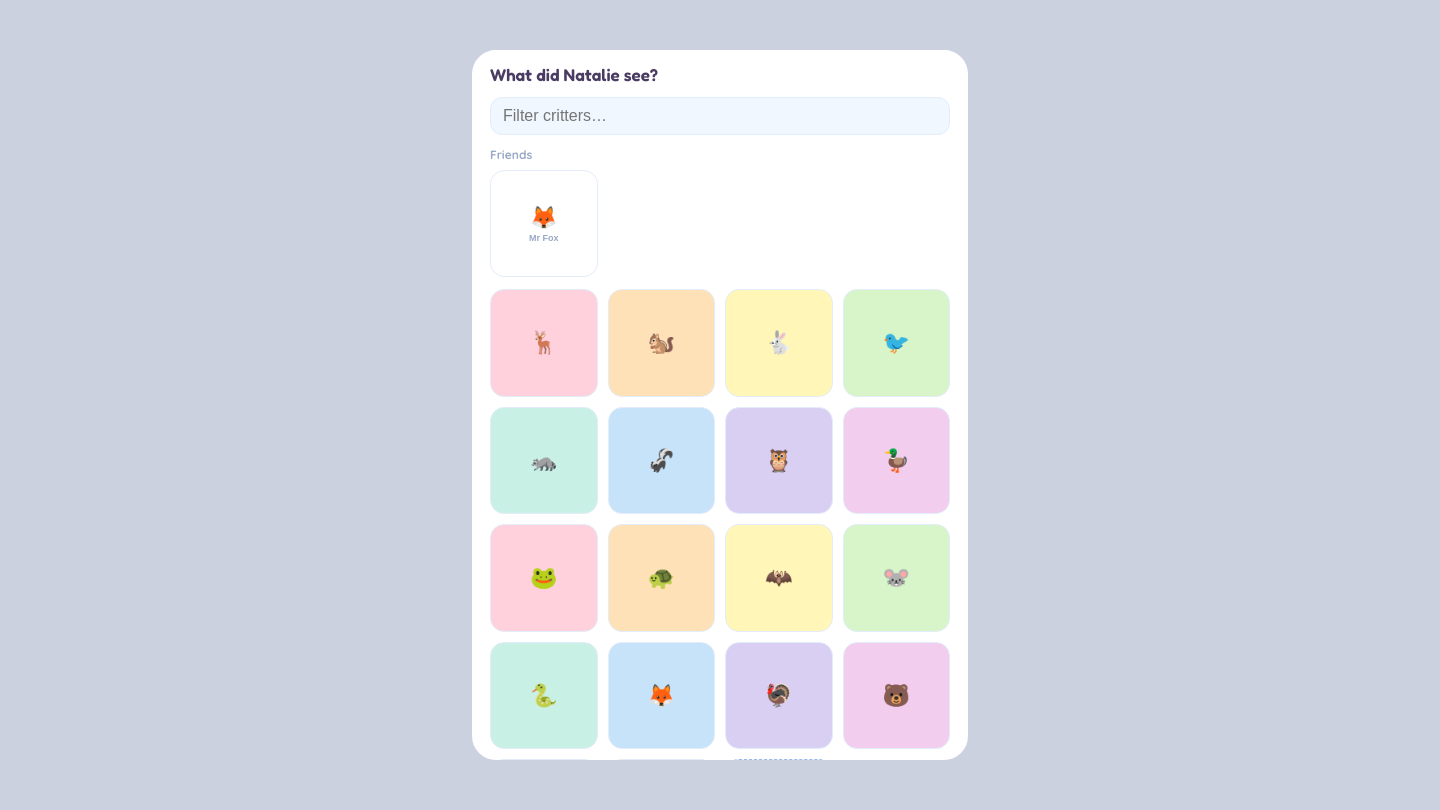
LogSightingFlow friends › arriving via a friend tile shows the friend status line instead of the checkbox
Click the button with aria-label "Friend Mr Fox": (544, 224) x1=490 y1=170 x2=598 y2=277
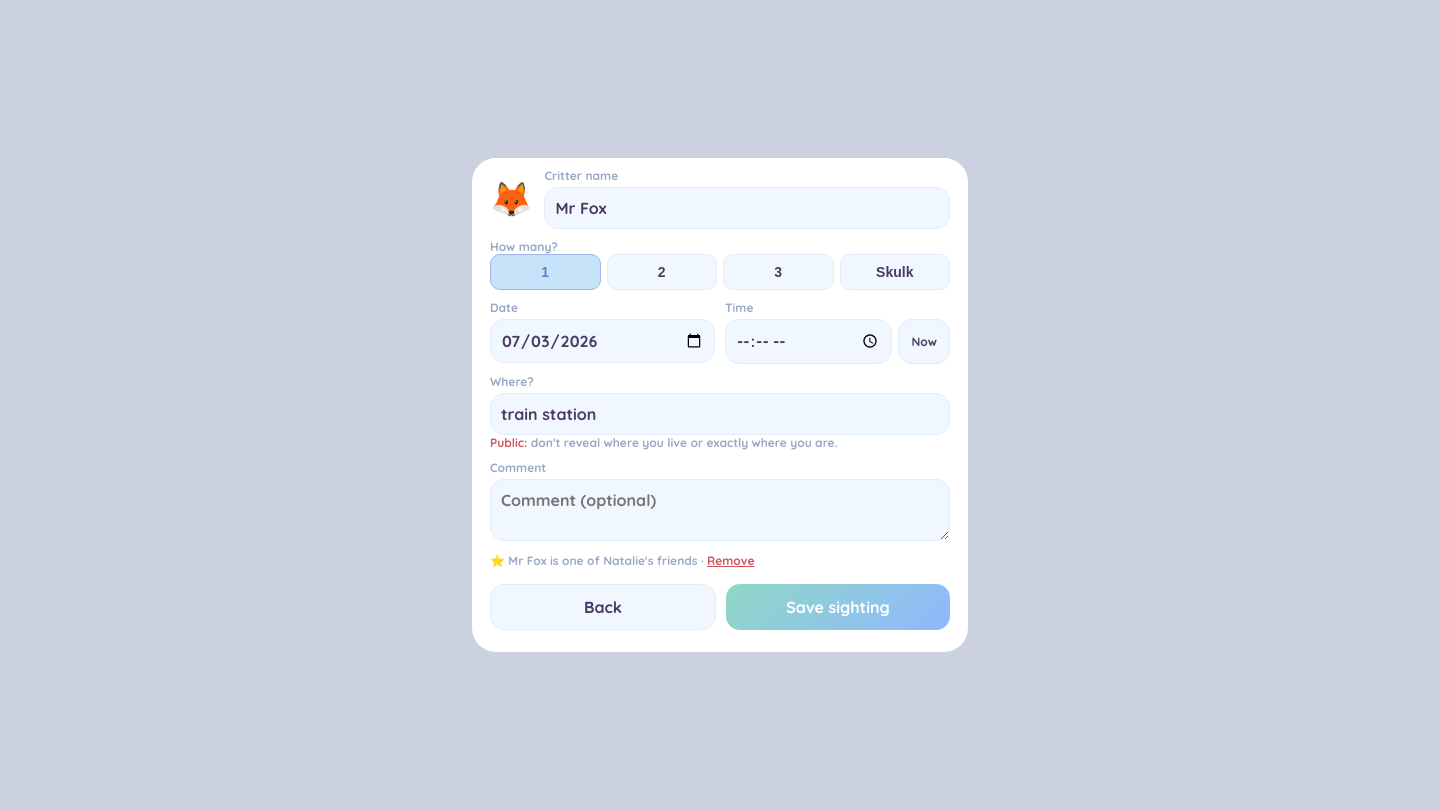
expect the text "⭐ Mr Fox is one of Natalie's friends · Remove" is shown: met, box x1=490 y1=553 x2=755 y2=568
